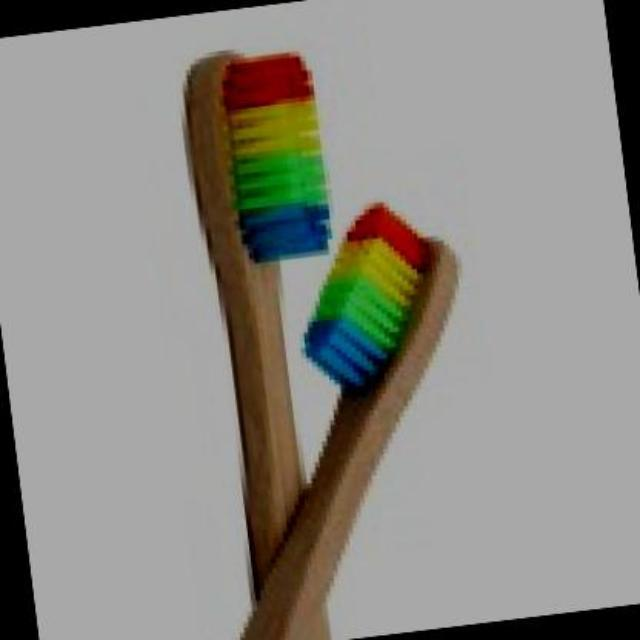toothbrush: (125, 42, 389, 638), (232, 181, 560, 639)
